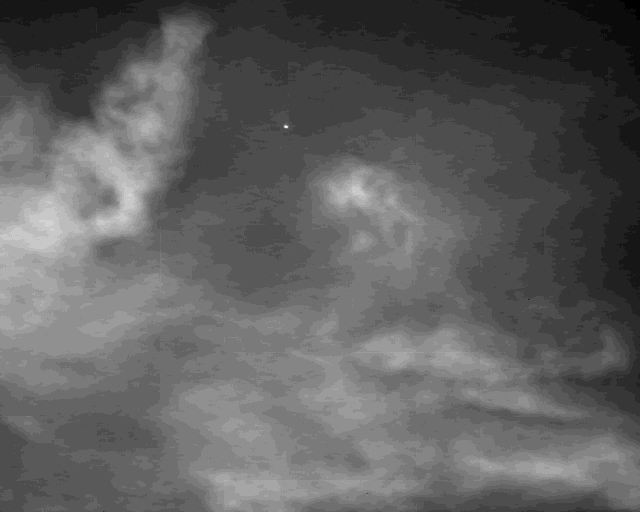Target: (284, 123, 290, 130)
